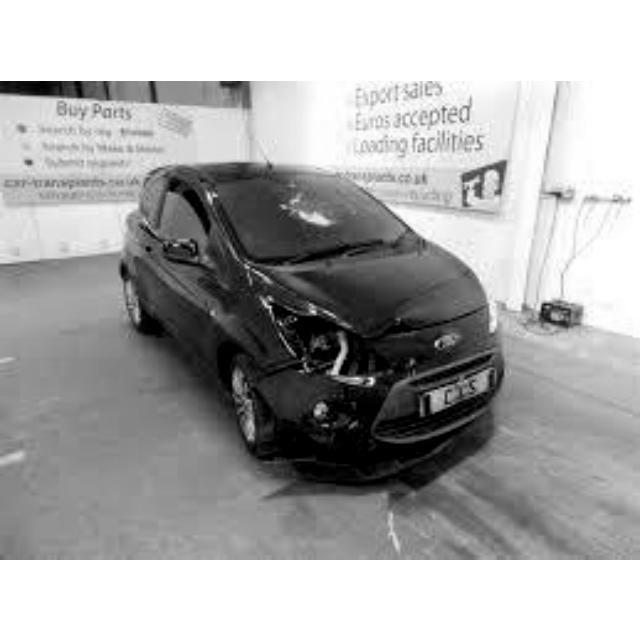Front-windscreen-damage: (240, 160, 393, 248)
Headlight-damage: (257, 293, 385, 384)
front-bumper-dent: (314, 407, 464, 468)
